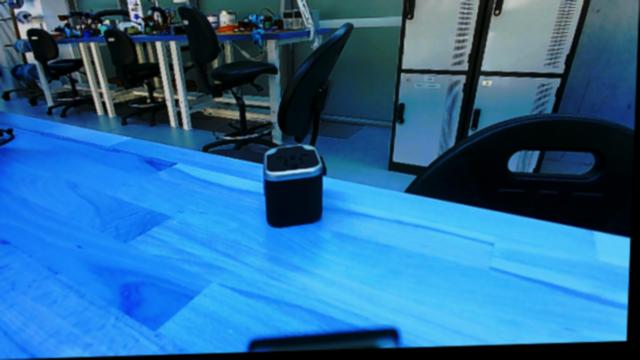adapter: (247, 143, 338, 234)
